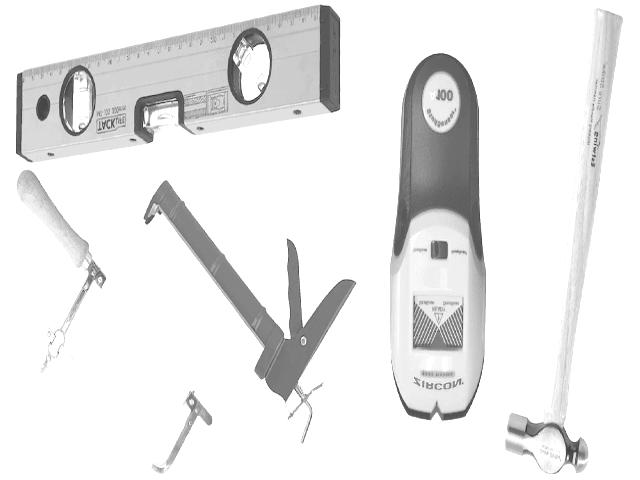Backsaw: (16, 172, 212, 475)
Hammer: (506, 10, 622, 474)
